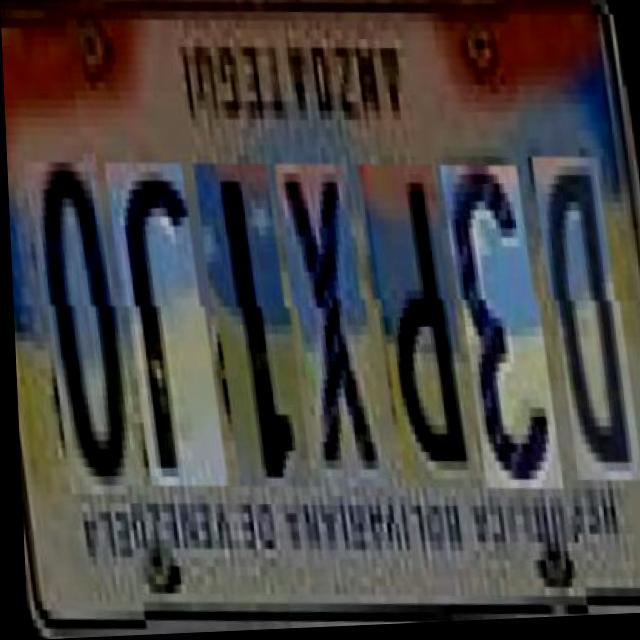1: (201, 167, 308, 496)
3: (447, 168, 557, 500)
d: (540, 169, 638, 499)
j: (113, 166, 223, 498)
o: (31, 156, 139, 496)
p: (366, 167, 473, 499)
x: (282, 166, 384, 498)
